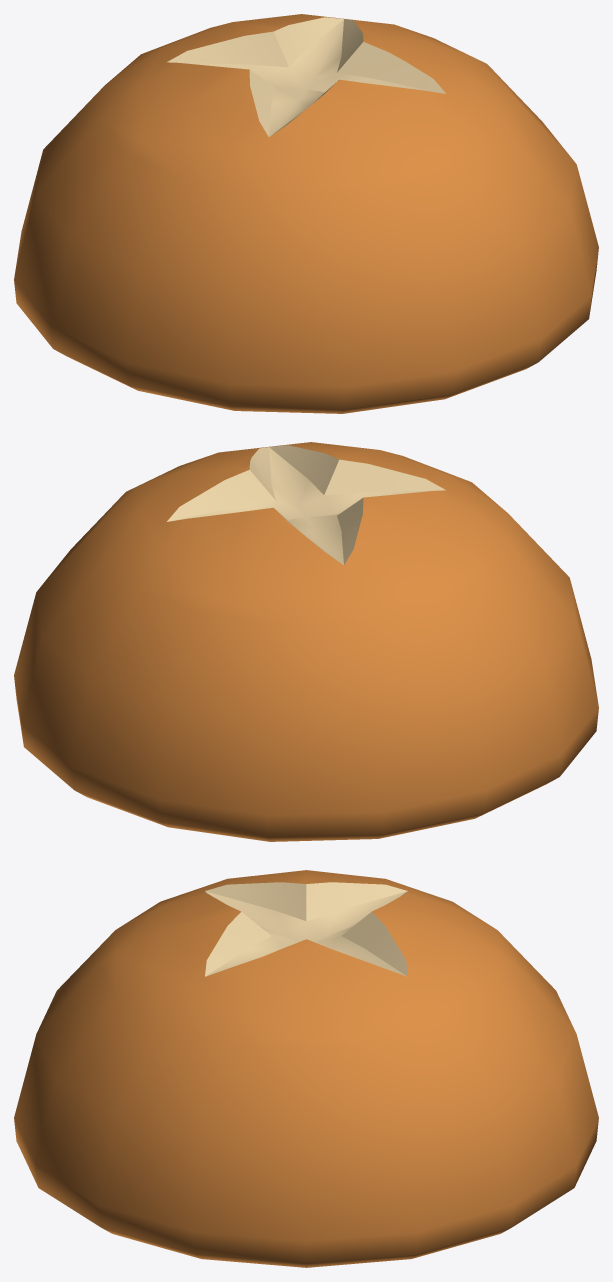
File: ParkPao.fbx
3 views of the same model, one above another, from view 1: azimuth 30°, elevation 25°; view 2: azimuth 150°, elevation 25°; view 3: azimuth 270°, elevation 25° (orthographic).
Visible parts, largest first — view 1: ParkPao; view 2: ParkPao; view 3: ParkPao.
Part boxes in pixels (x1,y1,x2,y2): ParkPao: [14, 14, 598, 413]; ParkPao: [14, 442, 598, 841]; ParkPao: [14, 870, 598, 1267].
Bounding box in the file's own units: 40.13 × 18.19 × 40.13.
1 material, 1 textured.
